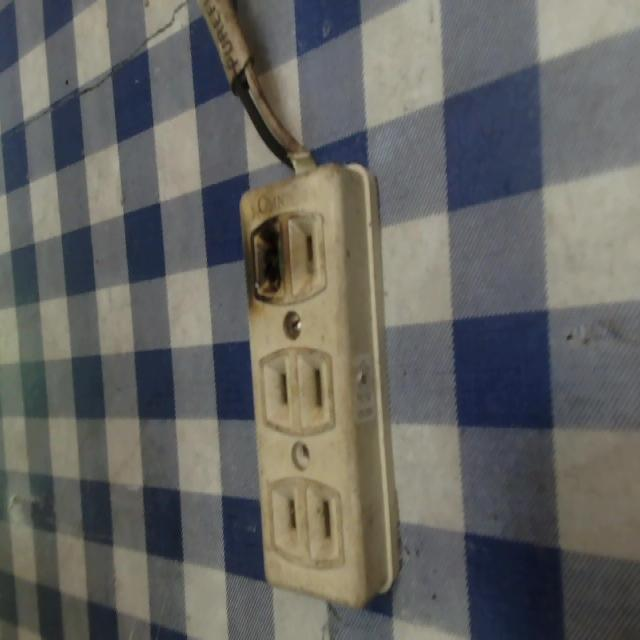-: (244, 215, 298, 306)
